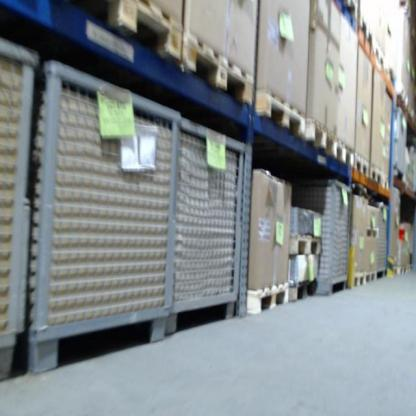pallet: (70, 3, 182, 69), (180, 29, 256, 112), (255, 89, 306, 138), (245, 281, 290, 318), (307, 120, 337, 161), (288, 275, 320, 306), (288, 235, 324, 257), (334, 141, 355, 169), (353, 155, 372, 179), (370, 166, 390, 188), (352, 272, 367, 290)
stillage: (28, 60, 175, 371), (163, 111, 250, 350), (2, 22, 49, 381), (284, 170, 347, 296), (389, 105, 409, 183), (372, 201, 388, 281)
